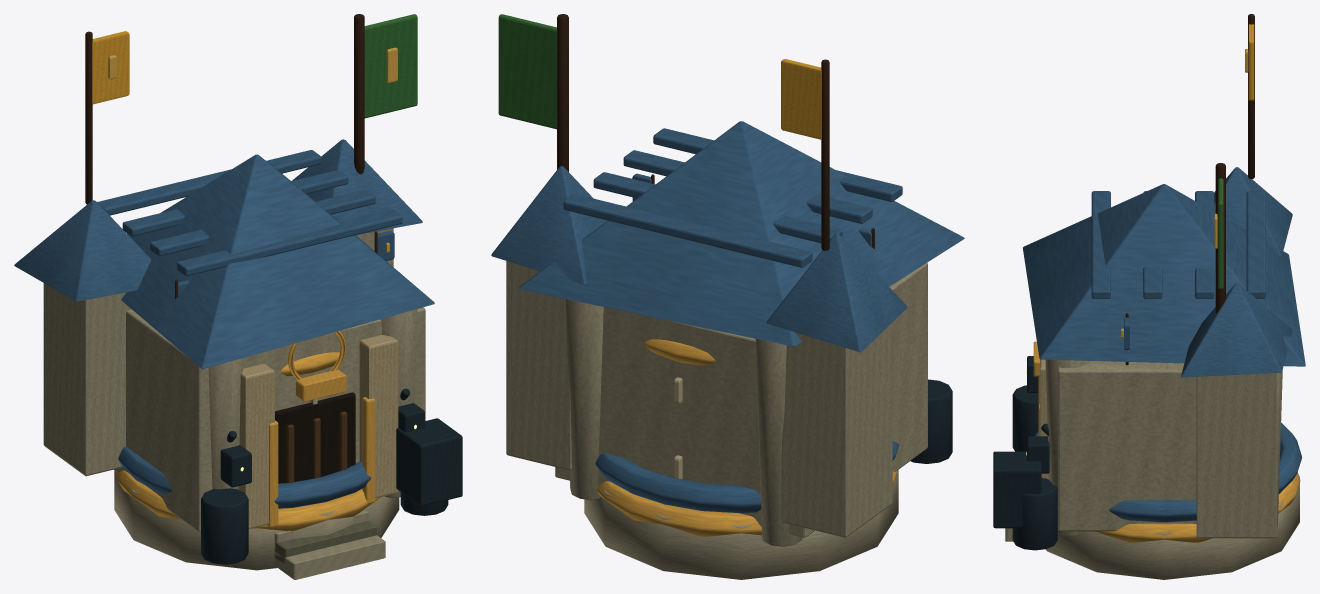
The model's file is tower-barracks-3-1.glb.
3 views of the same model, side by side, from view 1: azimuth 30°, elevation 25°; view 2: azimuth 150°, elevation 25°; view 3: azimuth 270°, elevation 25° (orthographic). The views are drawn at different scales.
Visible parts, largest first — view 1: Foundation, barracks-L3-1; view 2: Foundation, barracks-L3-1; view 3: Foundation, barracks-L3-1.
Boxes of the visible parts, <box> form: Foundation: <box>14,14,462,579</box>; barracks-L3-1: <box>114,470,399,570</box>; Foundation: <box>491,14,964,546</box>; barracks-L3-1: <box>584,470,898,579</box>; Foundation: <box>993,14,1305,550</box>; barracks-L3-1: <box>1046,473,1299,579</box>.
Size of the model in its own units: 2.49 by 3.09 by 1.94.
Materials: 18 (18 with a texture image).
